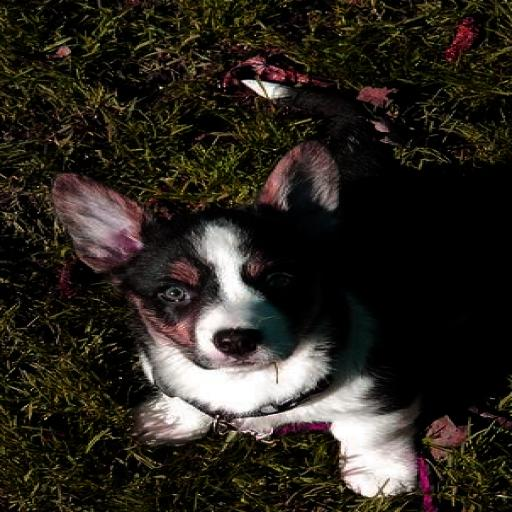dog_face: (41, 146, 352, 387)
